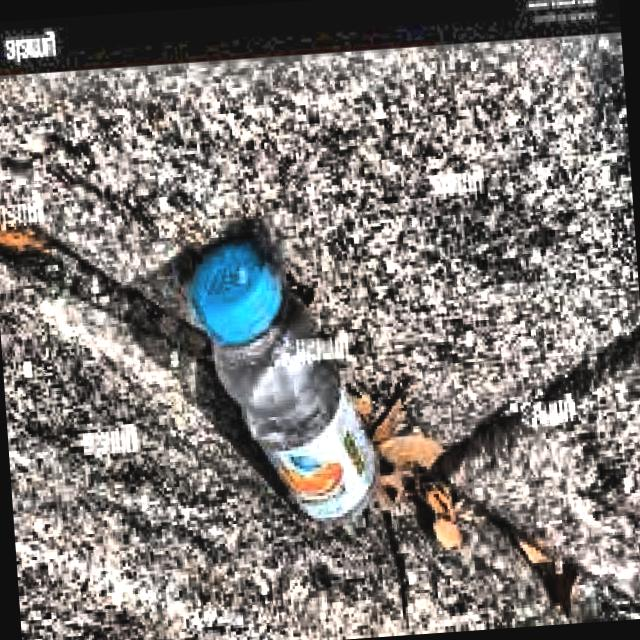plastic bottle: (190, 236, 376, 517)
